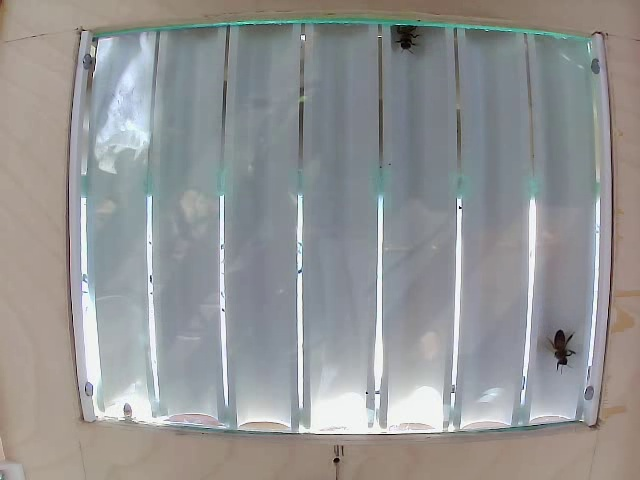bee: (392, 20, 429, 60), (548, 326, 578, 372)
